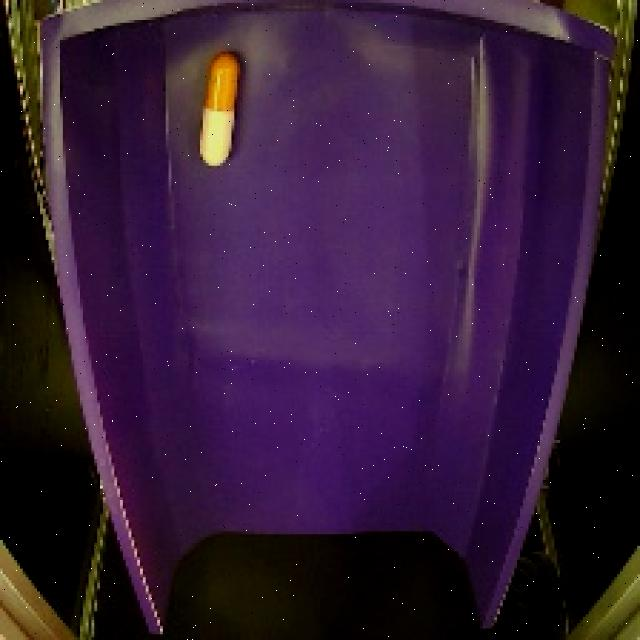small: (189, 45, 248, 172)
